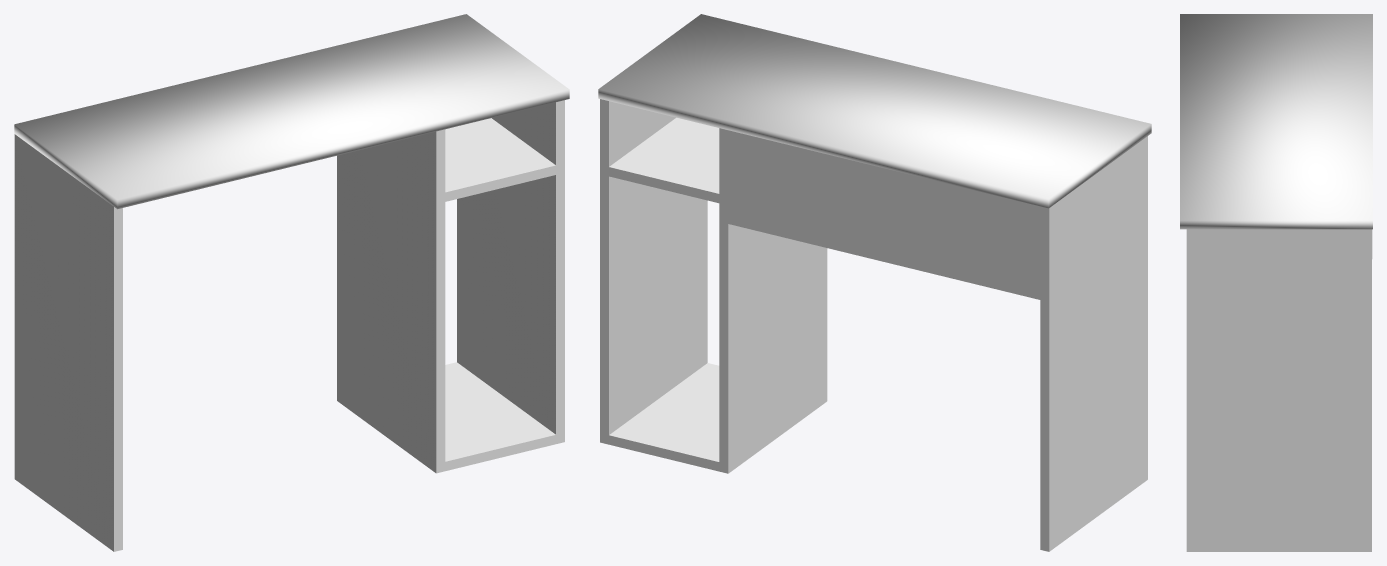
File: Wooden Study Table.glb
3 renders of one model, left to right at view 1: azimuth 30°, elevation 25°; view 2: azimuth 150°, elevation 25°; view 3: azimuth 270°, elevation 25°, orthographic. The views are drawn at different scales.
Parts seen in each view (by area): view 1: Cube, Cube.002, Cube.004, Cube.001, Cube.003, Cube.006; view 2: Cube, Cube.002, Cube.005, Cube.001, Cube.004, Cube.003, Cube.006; view 3: Cube.001, Cube.
Part boxes in pixels (box(x1,y1,x2,y2)): Cube: box(14, 14, 569, 209); Cube.002: box(14, 134, 122, 551); Cube.004: box(337, 129, 445, 472); Cube.001: box(457, 100, 564, 434); Cube.003: box(387, 362, 564, 473); Cube.006: box(436, 118, 564, 203); Cube: box(598, 14, 1151, 208); Cube.002: box(1040, 136, 1147, 551); Cube.005: box(725, 130, 1040, 299); Cube.001: box(600, 99, 707, 444); Cube.004: box(719, 128, 827, 473); Cube.003: box(604, 363, 818, 473); Cube.006: box(609, 117, 719, 203); Cube.001: box(1186, 229, 1371, 551); Cube: box(1180, 14, 1372, 229).
Size of the model in its own units: 1 by 0.7498 by 0.395.
7 materials, 7 textured.
